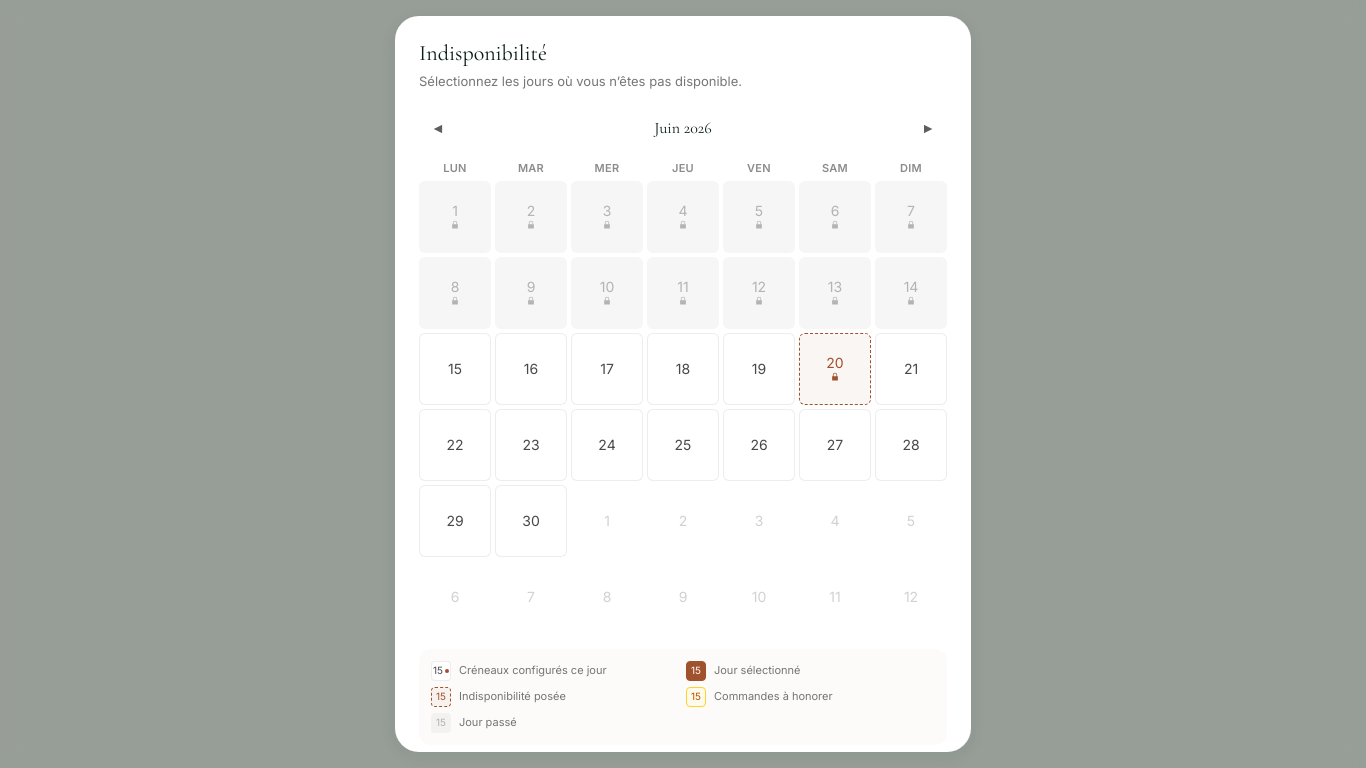
Test: <UnavailabilitiesCalendarModal> › clic sur jour déjà indispo → mini-confirmation 'Retirer / Annuler'
Click the button "20". click: (835, 368)
box: [799,332,871,404]
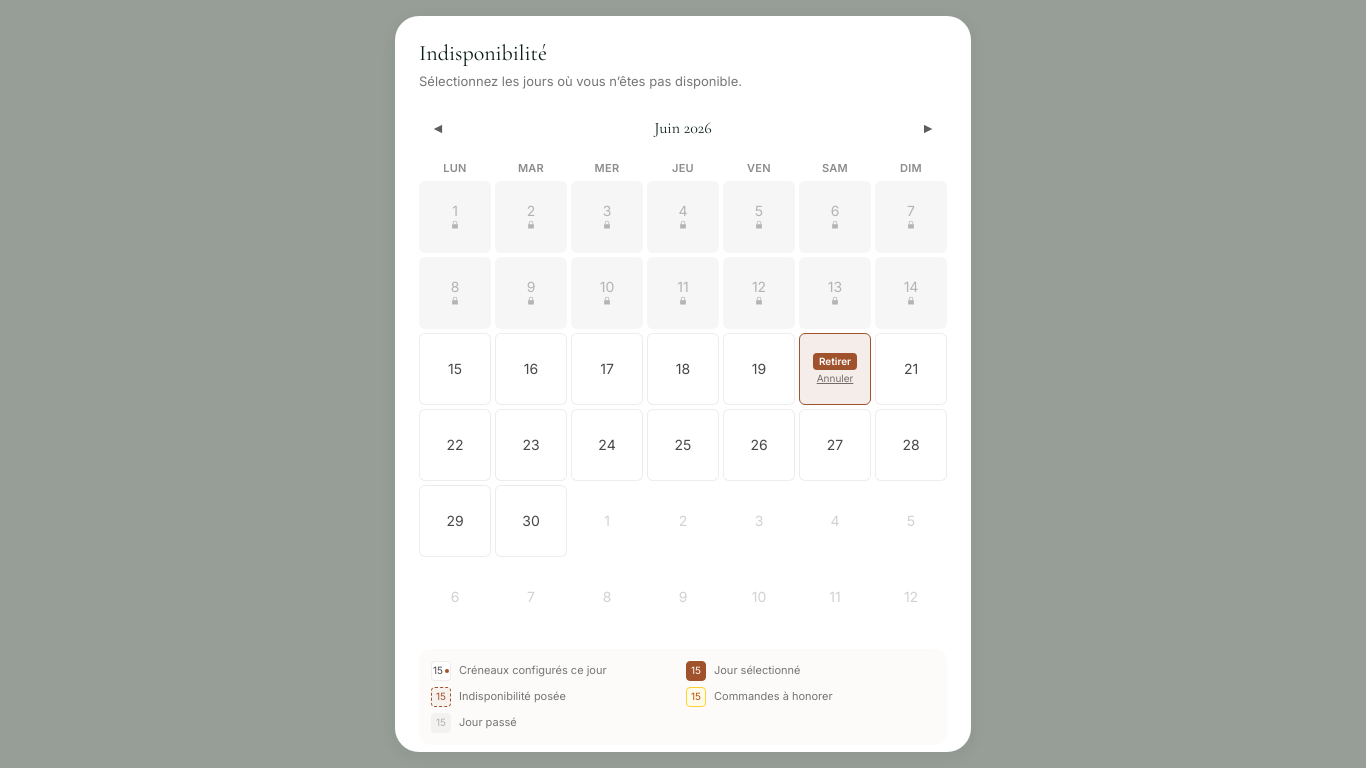
Expected: the text "Retirer" is shown, [813,353,857,370]
